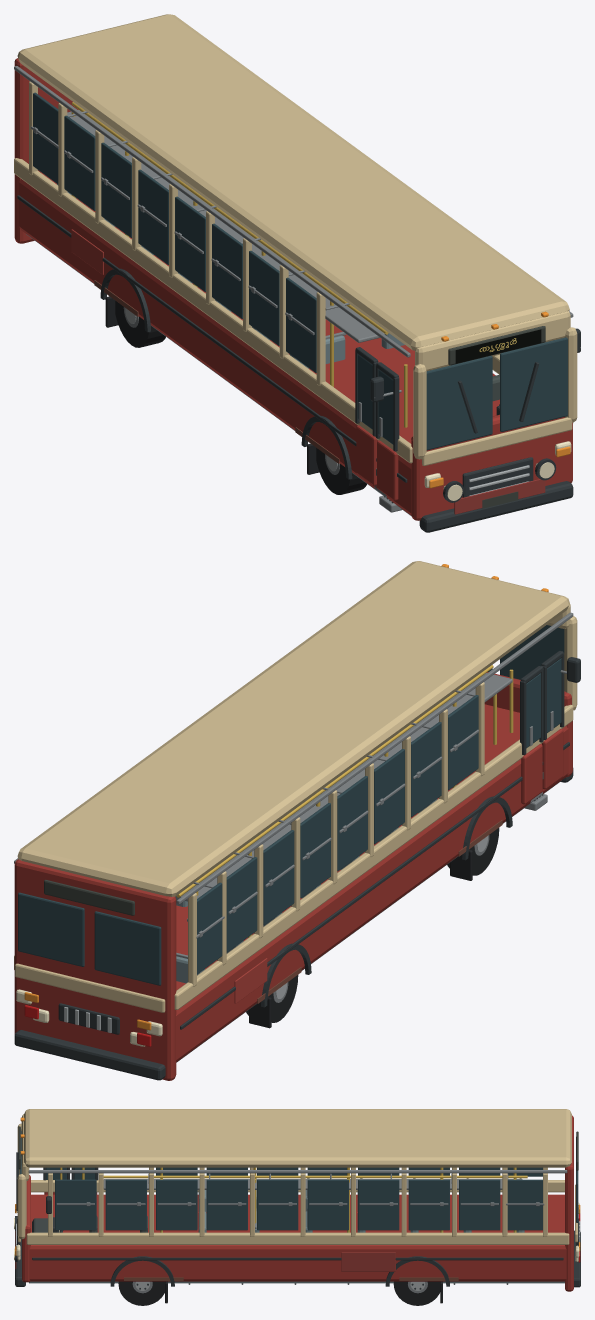
Rendered from bus_v2_detail.glb.
3 views of the same model, one above another, from view 1: azimuth 30°, elevation 25°; view 2: azimuth 150°, elevation 25°; view 3: azimuth 270°, elevation 25° (orthographic). The views are drawn at different scales.
Visible parts, largest first — view 1: BODY_ROOF, BODY_LOWER, BELT_L, FRONT_LOWER, WINDSHIELD_R, WINDSHIELD_L, LUGGAGE_RACK_L, RAIN_GUTTER_L, SIDE_WINDOW_L_09, FRONT_HEADER, REAR_PANEL, SIDE_WINDOW_L_03 (+27 smaller); view 2: BODY_ROOF, BODY_LOWER, REAR_PANEL, BELT_L, REAR_WINDOW_L, REAR_WINDOW_R, RAIN_GUTTER_L, REAR_BUMPER, LUGGAGE_RACK_L, SIDE_WINDOW_L_08, SIDE_WINDOW_L_09, SIDE_WINDOW_L_06 (+24 smaller); view 3: BODY_ROOF, BODY_LOWER, BELT_R, RAIN_GUTTER_R, SIDE_WINDOW_R_01, SIDE_WINDOW_R_03, SIDE_WINDOW_R_05, SIDE_WINDOW_R_07, SIDE_WINDOW_R_04, SIDE_WINDOW_R_06, SIDE_WINDOW_R_08, SIDE_WINDOW_R_09 (+25 smaller).
Boxes of the visible parts, bbox=[...] form: BODY_ROOF: bbox=[17, 14, 569, 350]; BODY_LOWER: bbox=[18, 172, 499, 515]; BELT_L: bbox=[14, 158, 412, 463]; FRONT_LOWER: bbox=[411, 414, 572, 520]; WINDSHIELD_R: bbox=[500, 337, 567, 431]; WINDSHIELD_L: bbox=[426, 355, 492, 450]; LUGGAGE_RACK_L: bbox=[67, 110, 384, 342]; RAIN_GUTTER_L: bbox=[14, 66, 410, 357]; SIDE_WINDOW_L_09: bbox=[64, 115, 95, 210]; FRONT_HEADER: bbox=[415, 311, 570, 370]; REAR_PANEL: bbox=[14, 58, 78, 243]; SIDE_WINDOW_L_03: bbox=[286, 277, 316, 372]; BODY_ROOF: bbox=[17, 561, 569, 896]; BODY_LOWER: bbox=[176, 704, 568, 1061]; REAR_PANEL: bbox=[14, 859, 176, 1080]; BELT_L: bbox=[174, 704, 573, 1009]; REAR_WINDOW_L: bbox=[94, 911, 161, 985]; REAR_WINDOW_R: bbox=[18, 892, 84, 966]; RAIN_GUTTER_L: bbox=[176, 612, 573, 904]; REAR_BUMPER: bbox=[14, 1030, 165, 1080]; LUGGAGE_RACK_L: bbox=[180, 673, 512, 901]; SIDE_WINDOW_L_08: bbox=[263, 830, 294, 925]; SIDE_WINDOW_L_09: bbox=[226, 857, 257, 952]; SIDE_WINDOW_L_06: bbox=[337, 776, 367, 871]; BODY_ROOF: bbox=[24, 1109, 571, 1167]; BODY_LOWER: bbox=[29, 1194, 566, 1281]; BELT_R: bbox=[26, 1232, 569, 1244]; RAIN_GUTTER_R: bbox=[28, 1170, 567, 1173]; SIDE_WINDOW_R_01: bbox=[55, 1179, 96, 1230]; SIDE_WINDOW_R_03: bbox=[156, 1179, 197, 1230]; SIDE_WINDOW_R_05: bbox=[257, 1179, 298, 1230]; SIDE_WINDOW_R_07: bbox=[358, 1179, 399, 1230]; SIDE_WINDOW_R_04: bbox=[206, 1179, 247, 1230]; SIDE_WINDOW_R_06: bbox=[307, 1179, 348, 1230]; SIDE_WINDOW_R_08: bbox=[408, 1179, 449, 1230]; SIDE_WINDOW_R_09: bbox=[459, 1179, 500, 1230].
Bounding box in the file's own units: 3.26 × 3.23 × 11.23.
20 materials, 1 textured.
